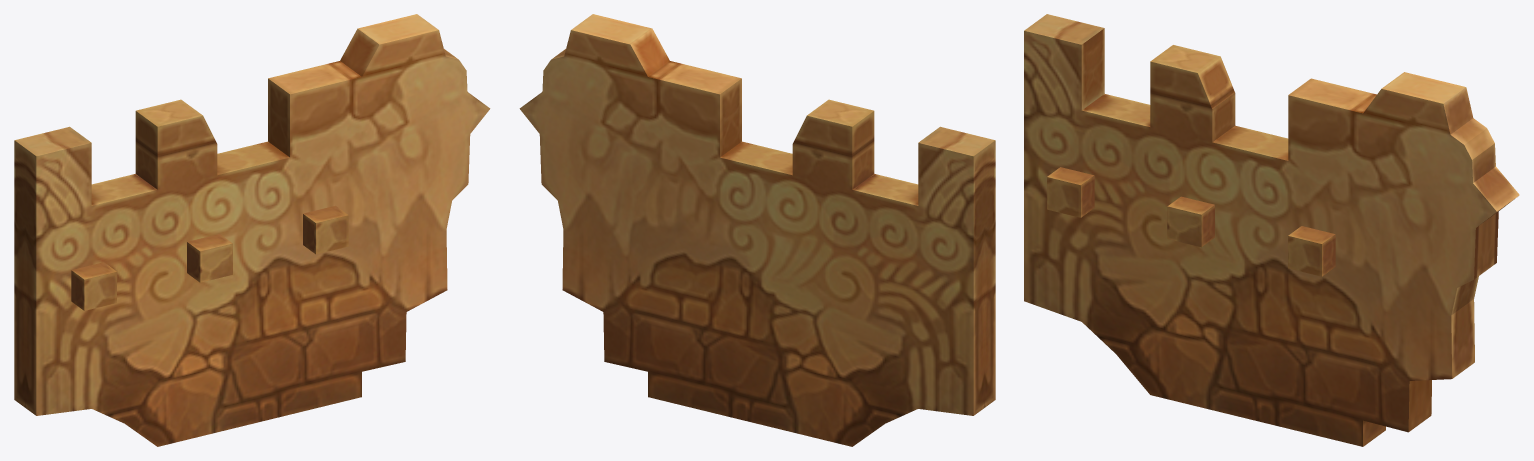
Rendered from Stage_ShaMo_QiangBi02.FBX.
The picture shows the model from 3 angles, left to right: view 1: azimuth 30°, elevation 25°; view 2: azimuth 150°, elevation 25°; view 3: azimuth 330°, elevation 25°; orthographic projection. The views are drawn at different scales.
Visible parts, largest first — view 1: Stage_ShaMo_QiangBi02; view 2: Stage_ShaMo_QiangBi02; view 3: Stage_ShaMo_QiangBi02.
Boxes of the visible parts, box(x1,y1,x2,y2) form: Stage_ShaMo_QiangBi02: box(14, 14, 490, 446); Stage_ShaMo_QiangBi02: box(519, 14, 995, 446); Stage_ShaMo_QiangBi02: box(1024, 14, 1519, 446).
Size of the model in its own units: 510 by 374 by 68.08.
